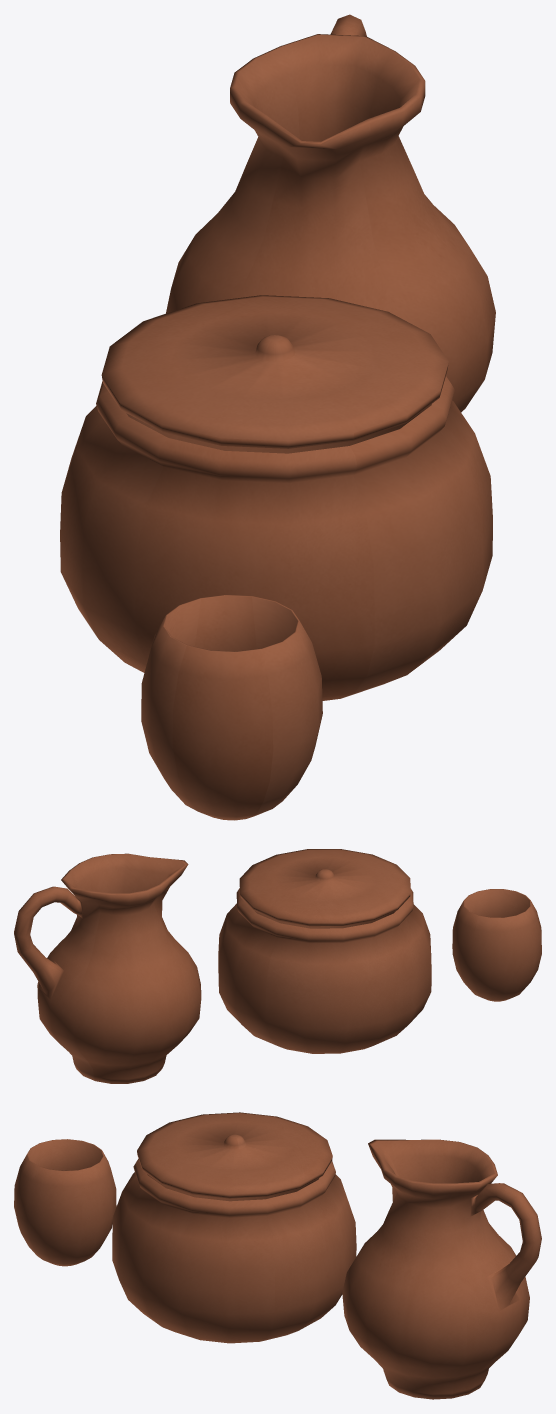
File: Ollas,1.fbx
3 renders of one model, top to bottom at view 1: azimuth 30°, elevation 25°; view 2: azimuth 150°, elevation 25°; view 3: azimuth 270°, elevation 25°, orthographic. The views are drawn at different scales.
Visible parts, largest first — view 1: Ollas.001; view 2: Ollas.001; view 3: Ollas.001.
Boxes of the visible parts, x1,y1,x2,y2 form: Ollas.001: (60,14,495,820); Ollas.001: (14,849,541,1083); Ollas.001: (14,1112,541,1399).
Bounding box in the file's own units: 0.5885 × 0.3338 × 0.7348.
